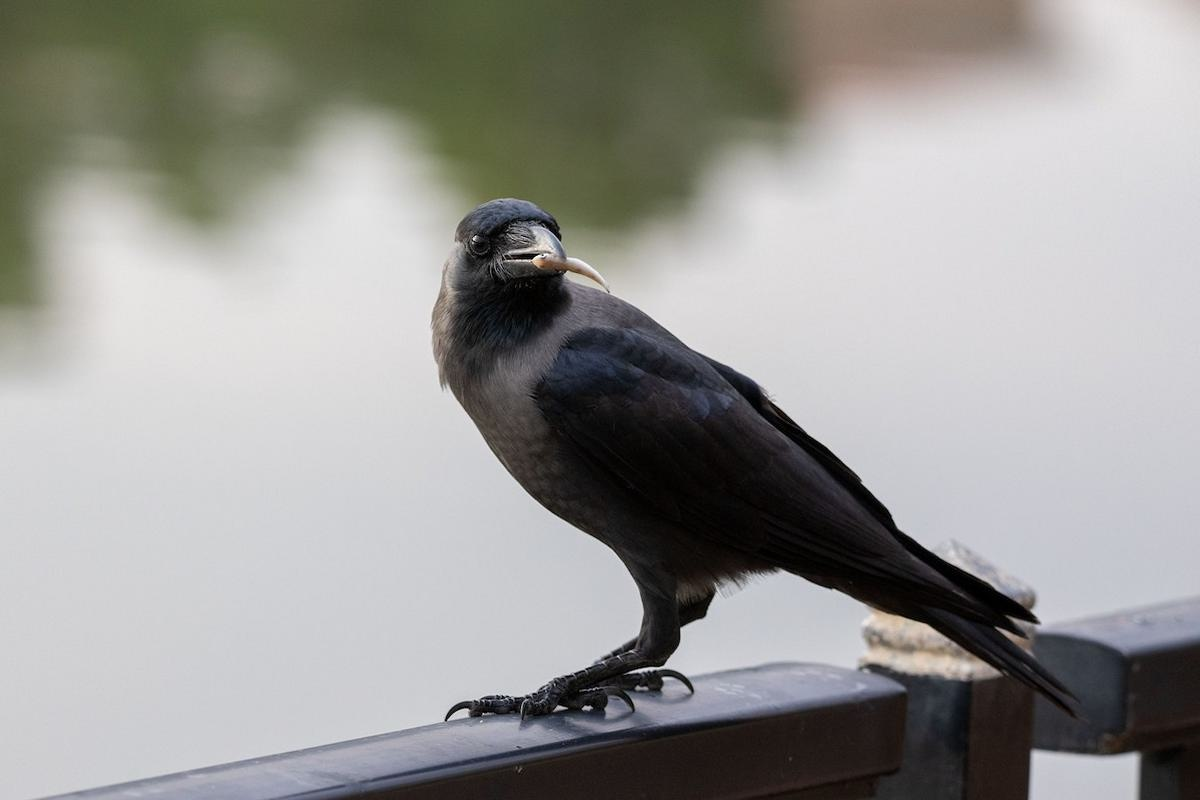crow: (419, 186, 1088, 744)
